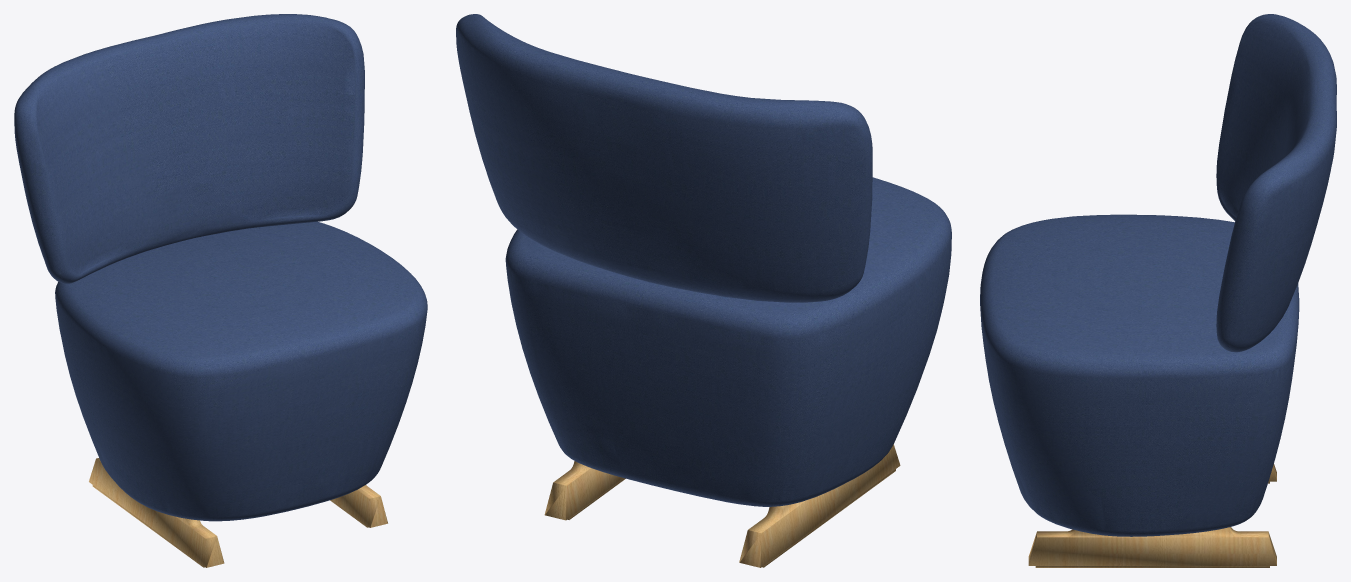
The picture shows the model from 3 angles, left to right: view 1: azimuth 30°, elevation 25°; view 2: azimuth 150°, elevation 25°; view 3: azimuth 270°, elevation 25°; orthographic projection. The views are drawn at different scales.
Parts seen in each view (by area): view 1: SketchUp (×4); view 2: SketchUp (×4); view 3: SketchUp (×3).
Part boxes in pixels (x1=…): SketchUp (×4): x1=14, y1=14, x2=427, y2=567; SketchUp (×4): x1=456, y1=14, x2=951, y2=567; SketchUp (×3): x1=980, y1=14, x2=1336, y2=567.
Size of the model in its own units: 28.24 by 23.96 by 32.08.
Materials: 3 (2 with a texture image).
